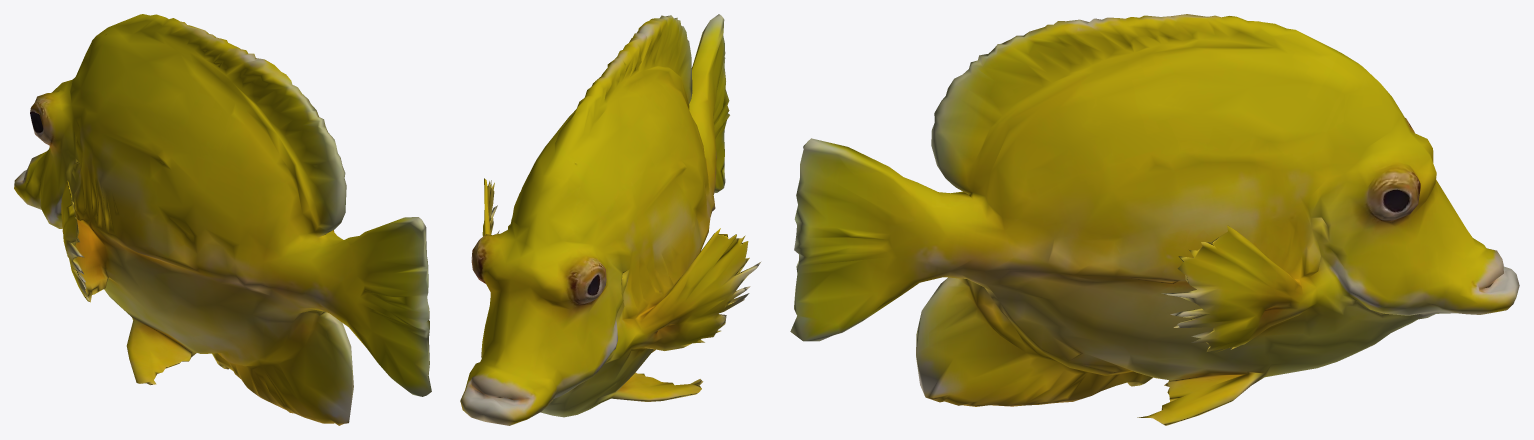
Rendered from fish-yellow.glb.
The picture shows the model from 3 angles, left to right: view 1: azimuth 30°, elevation 25°; view 2: azimuth 150°, elevation 25°; view 3: azimuth 270°, elevation 25°; orthographic projection. The views are drawn at different scales.
Parts seen in each view (by area): view 1: tripo_node_94a698de-a037-4d62-aa86-7bd62e451a65; view 2: tripo_node_94a698de-a037-4d62-aa86-7bd62e451a65; view 3: tripo_node_94a698de-a037-4d62-aa86-7bd62e451a65.
Boxes of the visible parts, x1=… form: tripo_node_94a698de-a037-4d62-aa86-7bd62e451a65: x1=14, y1=14, x2=431, y2=425; tripo_node_94a698de-a037-4d62-aa86-7bd62e451a65: x1=460, y1=14, x2=761, y2=425; tripo_node_94a698de-a037-4d62-aa86-7bd62e451a65: x1=790, y1=14, x2=1519, y2=425.
Bounding box in the file's own units: 0.4754 × 0.5772 × 1.
Materials: 1 (1 with a texture image).
